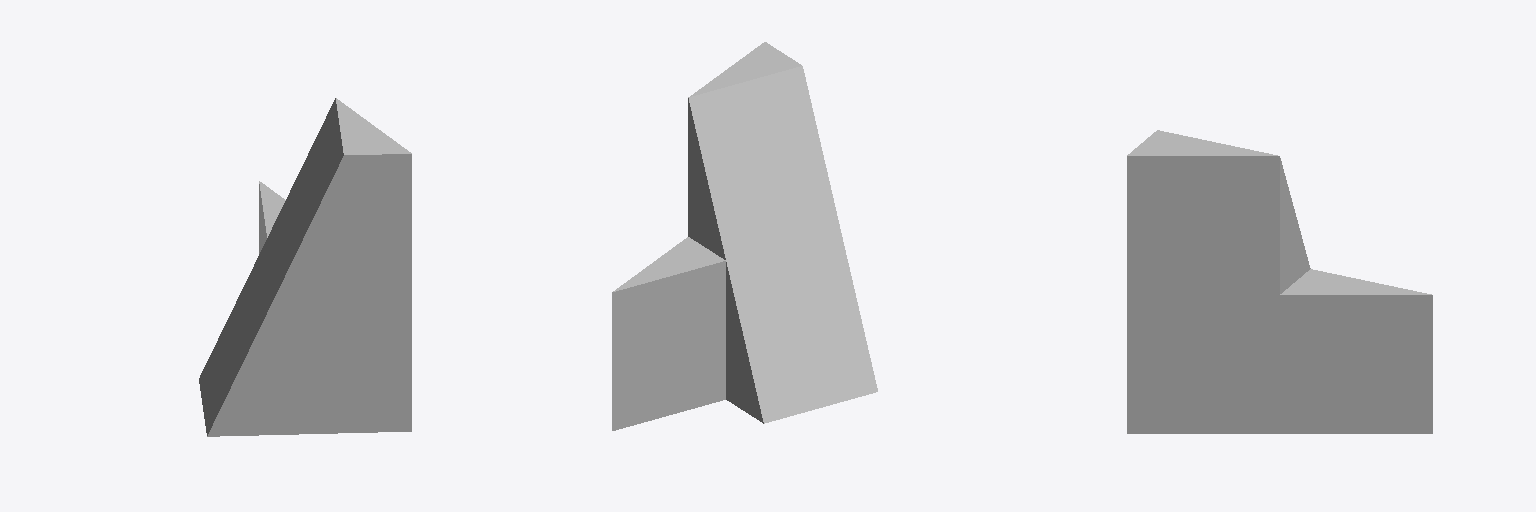
The model's file is dias52r.obj.
The picture shows the model from 3 angles: view 1: azimuth 30°, elevation 25°; view 2: azimuth 150°, elevation 25°; view 3: azimuth 270°, elevation 25°; orthographic projection.
Size of the model in its own units: 0.6 by 1 by 1.